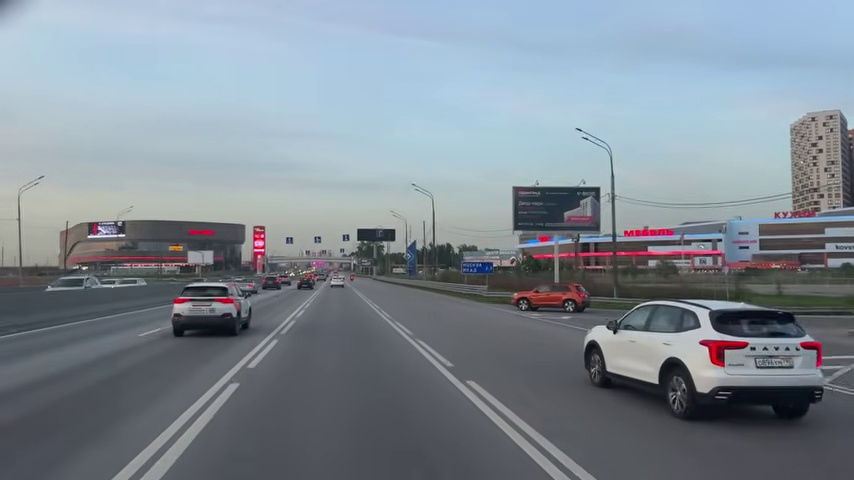apagada: (573, 125, 591, 146), (29, 173, 46, 189), (407, 178, 422, 194)
